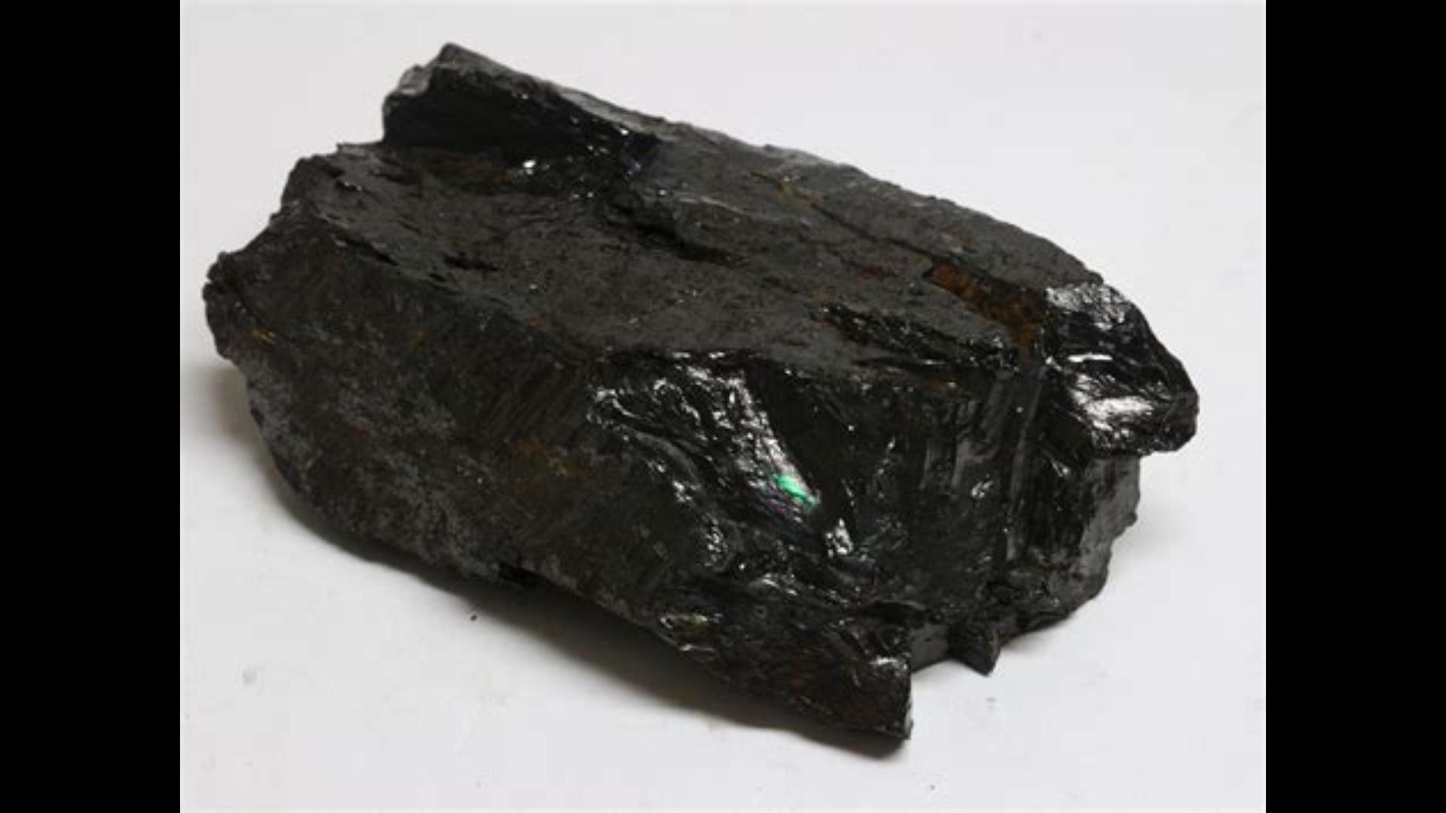rock: (203, 46, 1195, 735)
